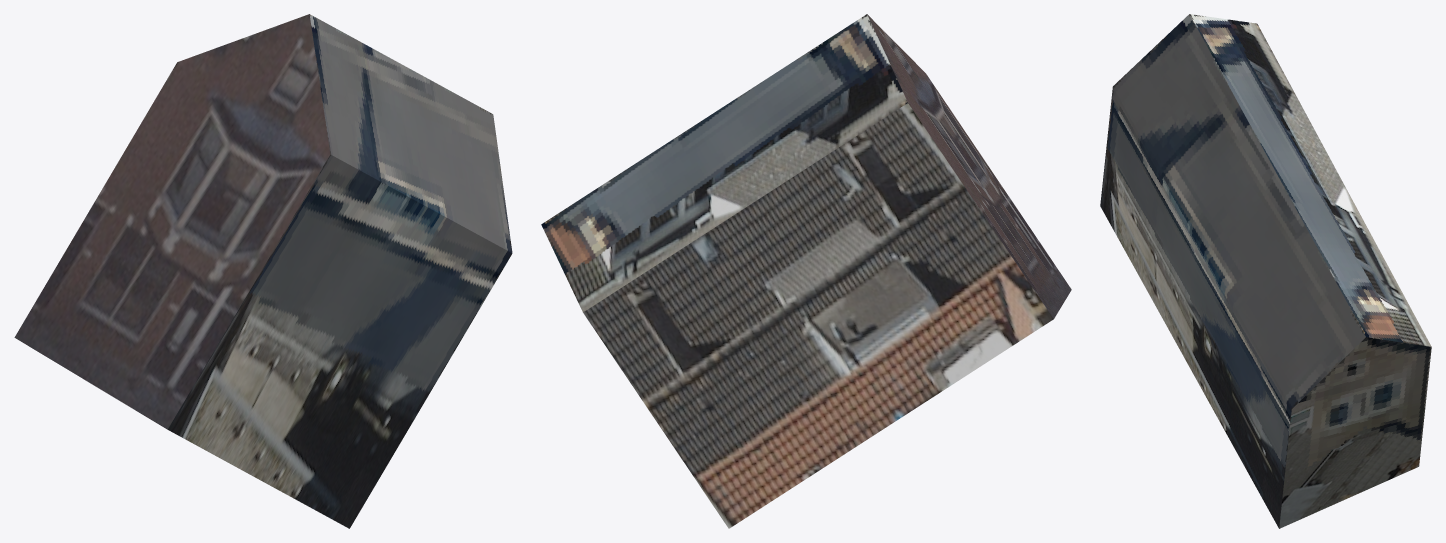
The picture shows the model from 3 angles, left to right: view 1: azimuth 30°, elevation 25°; view 2: azimuth 150°, elevation 25°; view 3: azimuth 270°, elevation 25°; orthographic projection. The views are drawn at different scales.
Parts seen in each view (by area): view 1: BAG_0599100000656926 (×2); view 2: BAG_0599100000656926 (×2); view 3: BAG_0599100000656926 (×3).
Boxes of the visible parts, <box> form: BAG_0599100000656926 (×2): <box>14,14,512,528</box>; BAG_0599100000656926 (×2): <box>541,14,1071,528</box>; BAG_0599100000656926 (×3): <box>1100,14,1431,528</box>.
Size of the model in its own units: 15.02 by 15.01 by 9.46.
3 materials, 3 textured.
